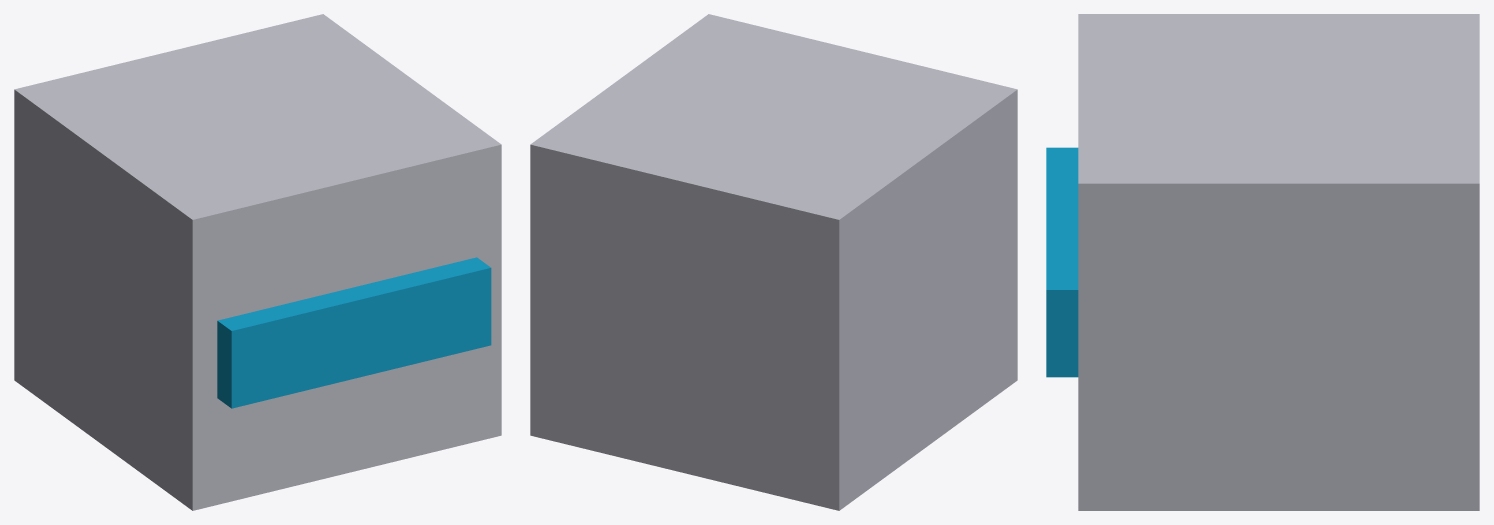
File: head_001.obj
3 views of the same model, side by side, from view 1: azimuth 30°, elevation 25°; view 2: azimuth 150°, elevation 25°; view 3: azimuth 270°, elevation 25° (orthographic). The views are drawn at different scales.
Bounding box in the file's own units: 0.5 × 0.45 × 0.54.
